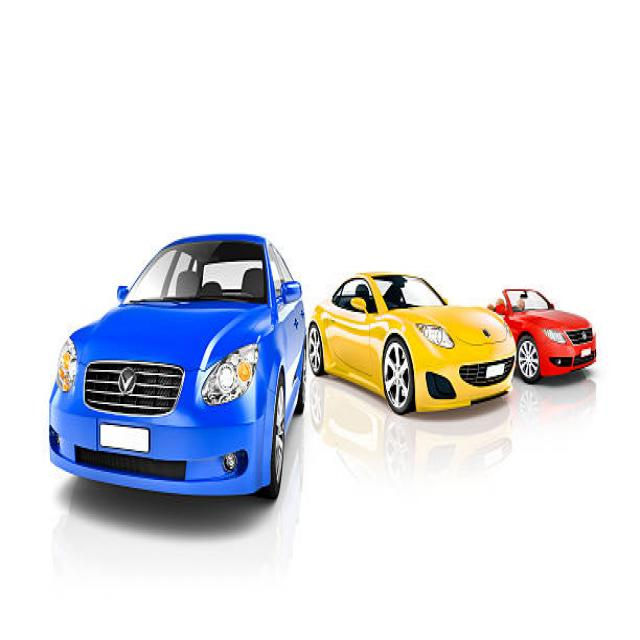car: (42, 210, 306, 527), (308, 266, 516, 426), (478, 278, 597, 394)
